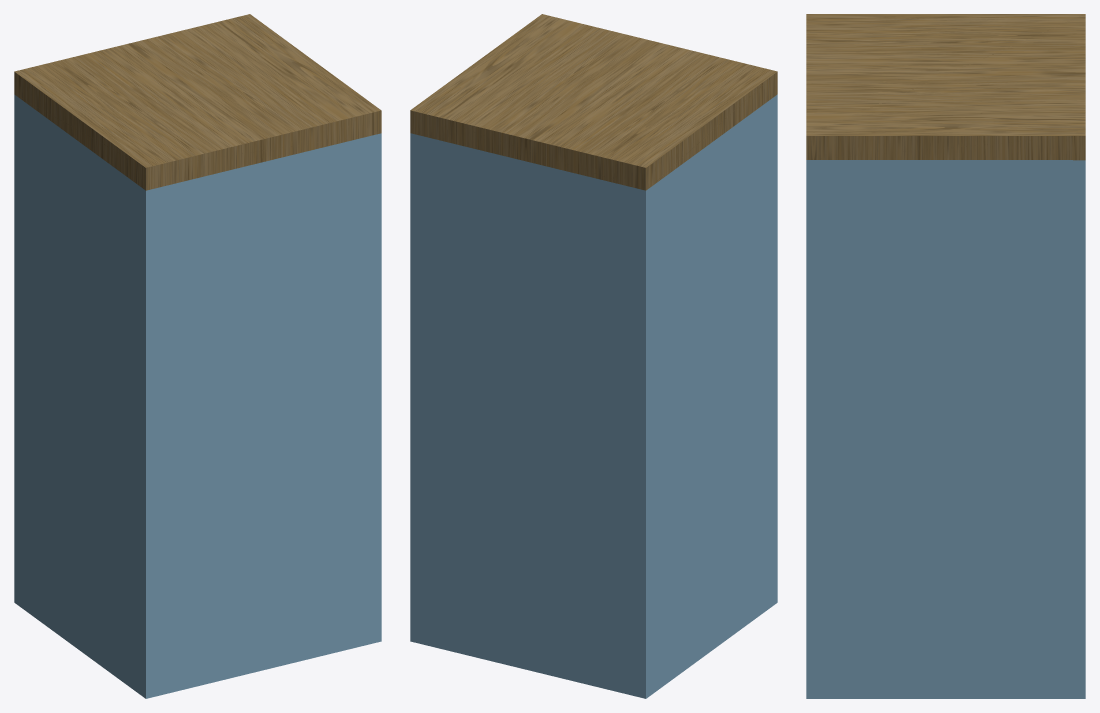
File: Cabinet_Base.fbx
3 views of the same model, side by side, from view 1: azimuth 30°, elevation 25°; view 2: azimuth 150°, elevation 25°; view 3: azimuth 270°, elevation 25° (orthographic). The views are drawn at different scales.
Visible parts, largest first — view 1: Cabinet_Base; view 2: Cabinet_Base; view 3: Cabinet_Base.
Boxes of the visible parts, x1,y1,x2,y2 form: Cabinet_Base: (14, 14, 381, 698); Cabinet_Base: (410, 14, 777, 698); Cabinet_Base: (806, 14, 1085, 698).
Size of the model in its own units: 32.53 by 70 by 31.47.
